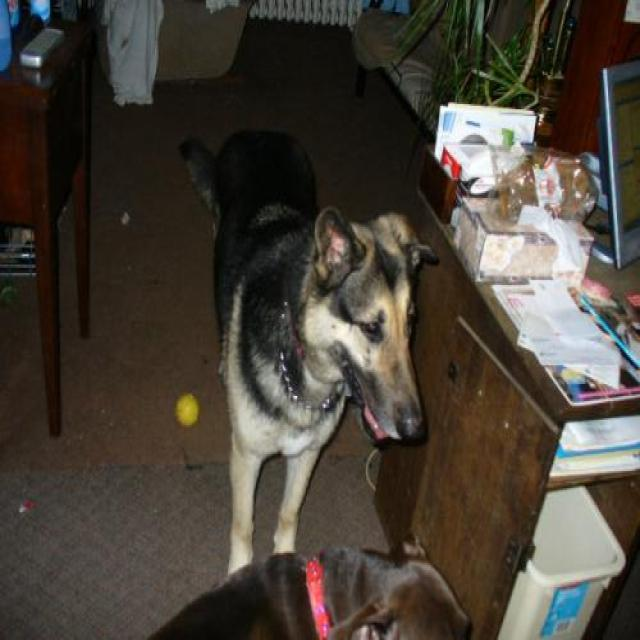Dogs: (177, 124, 439, 577)
